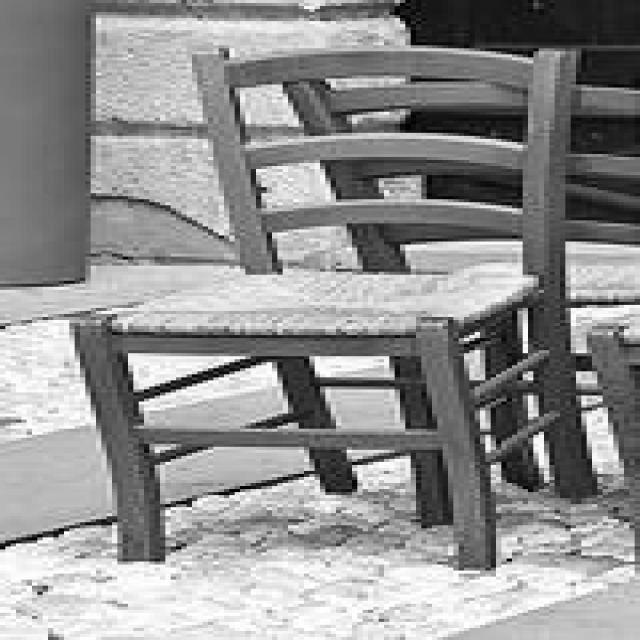chair: (69, 41, 586, 582)
